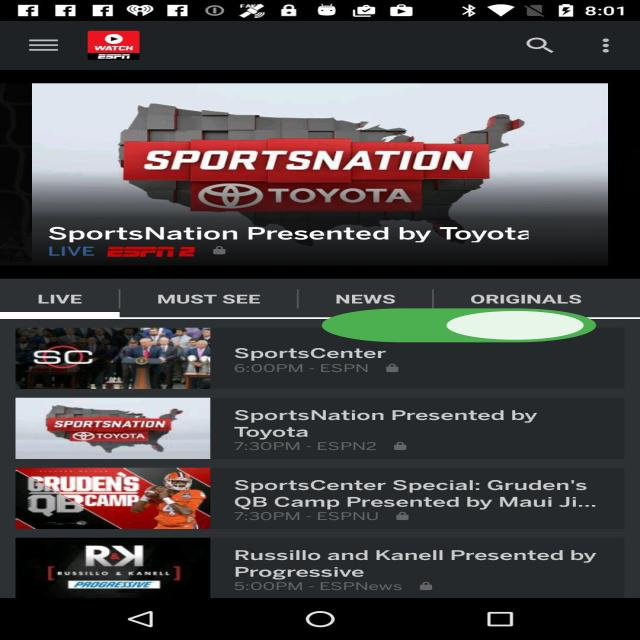social proof: (309, 295, 609, 358)
